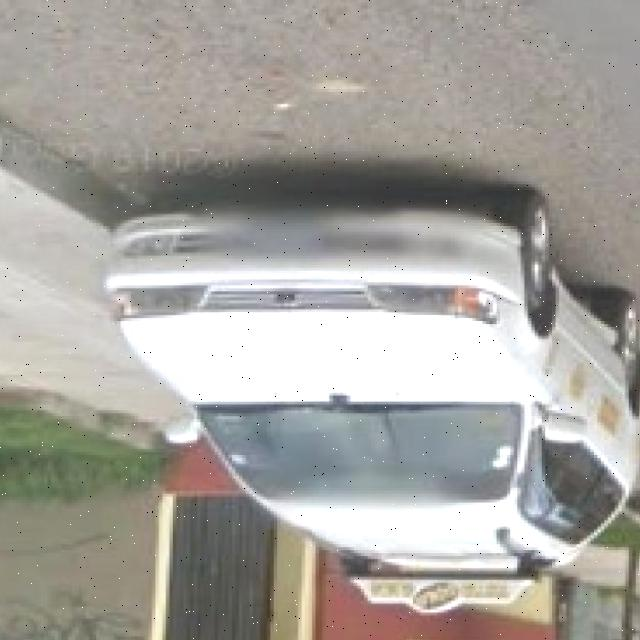car: (103, 177, 635, 602)
